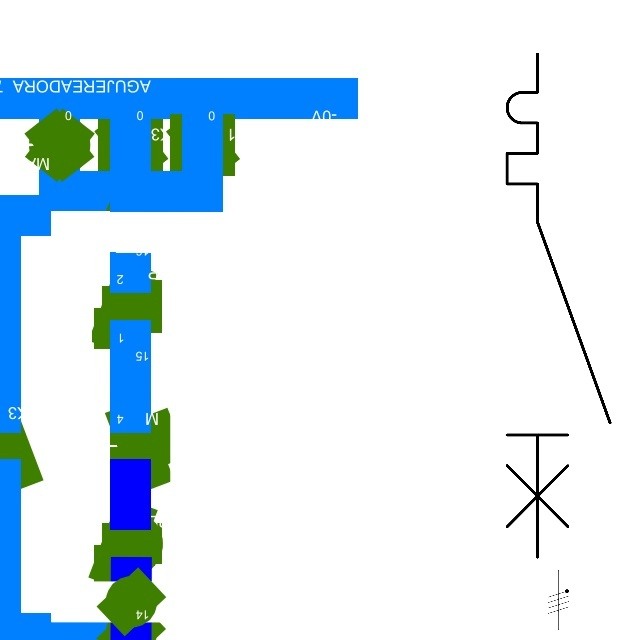interruptor_termomagnetico: (494, 41, 623, 570)
